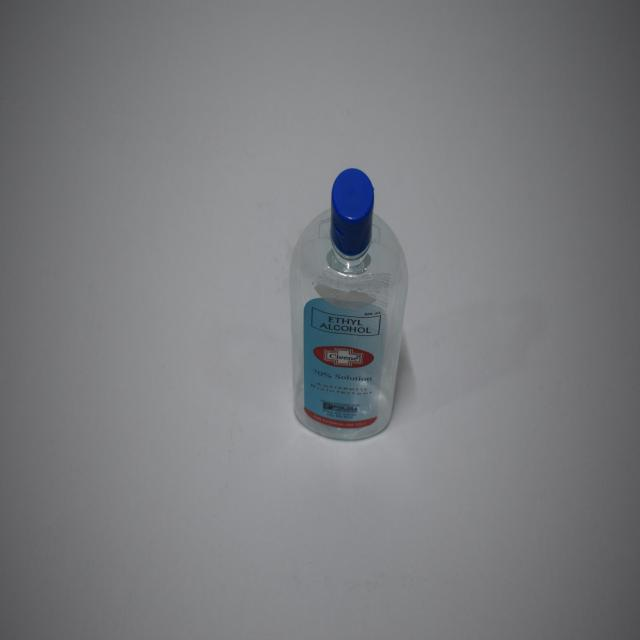bottle: (289, 168, 409, 444)
